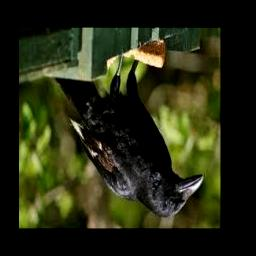Crow: (52, 51, 204, 218)
